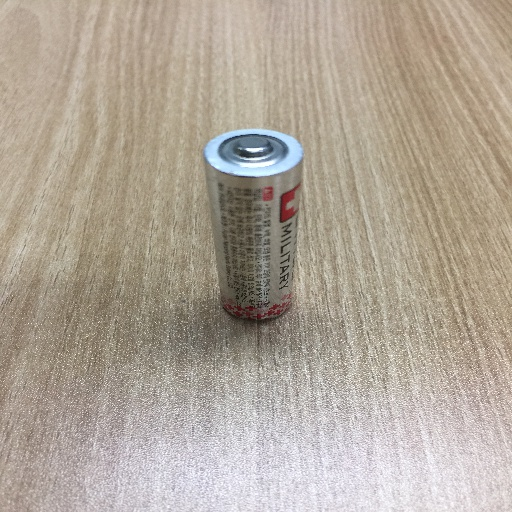Battery_0: (193, 104, 320, 339)
